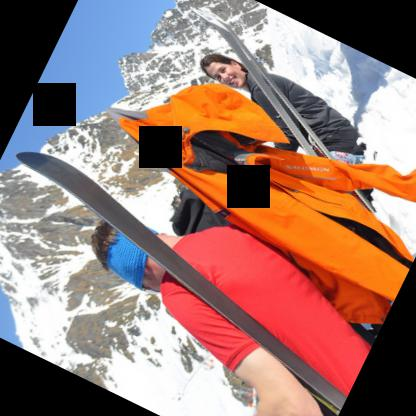backpack: (169, 188, 233, 236)
